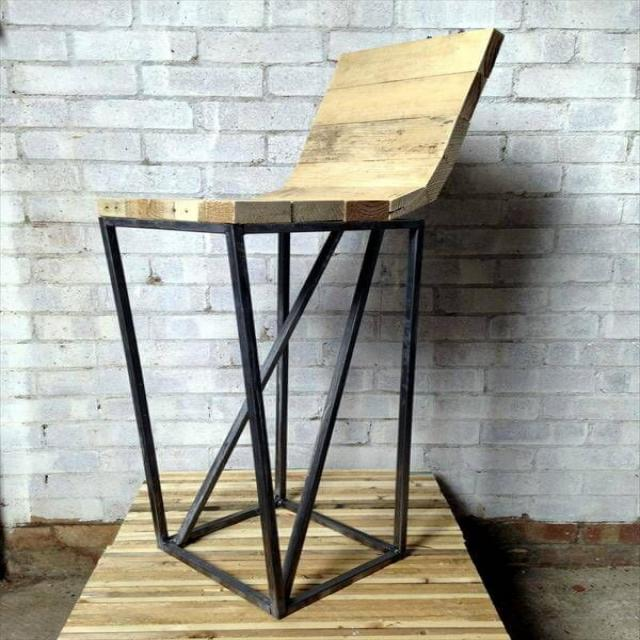broyeur: (60, 469, 522, 640)
